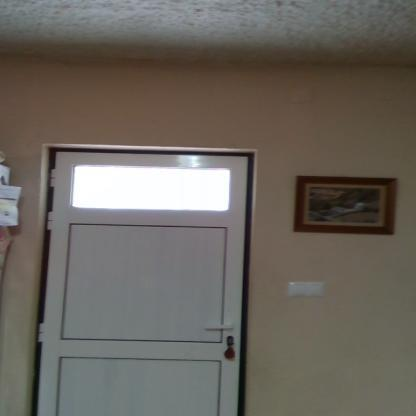door: (40, 154, 243, 416)
hinged: (46, 209, 54, 232), (48, 167, 56, 188), (38, 320, 45, 344)
lever: (204, 322, 236, 332)
